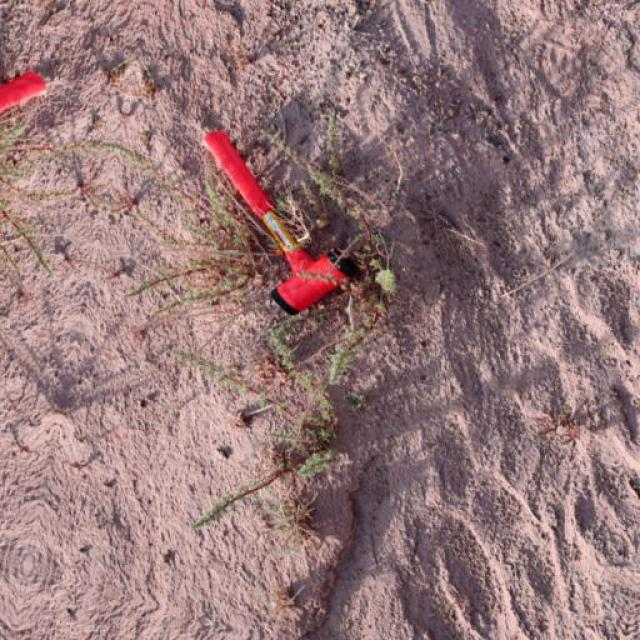mallet: (200, 127, 360, 315)
